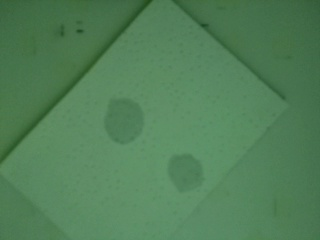Water_detected: (102, 101, 142, 139), (173, 153, 197, 191)
